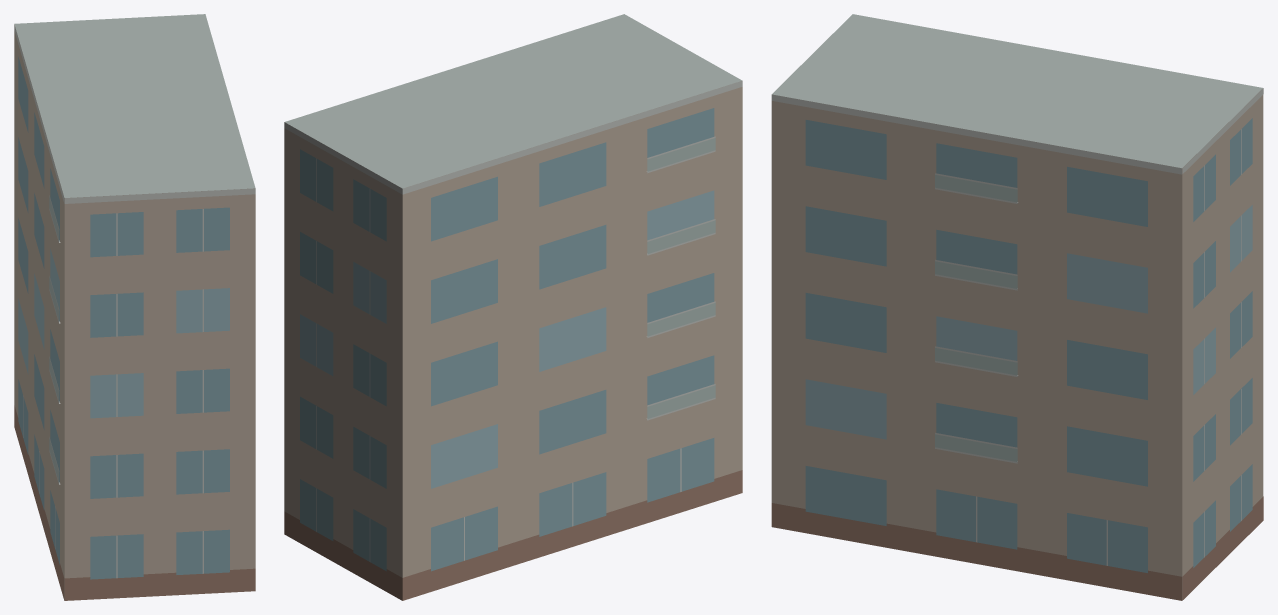
Rendered from survey-upis-32534147.glb.
3 renders of one model, left to right at view 1: azimuth 30°, elevation 25°; view 2: azimuth 150°, elevation 25°; view 3: azimuth 270°, elevation 25°, orthographic. The views are drawn at different scales.
Visible parts, largest first — view 1: survey-upis-32534147.tmp; view 2: survey-upis-32534147.tmp; view 3: survey-upis-32534147.tmp.
Boxes of the visible parts, x1,y1,x2,y2 form: survey-upis-32534147.tmp: (14, 14, 255, 600); survey-upis-32534147.tmp: (284, 14, 742, 600); survey-upis-32534147.tmp: (771, 14, 1263, 600).
Bounding box in the file's own units: 12.67 × 16.56 × 17.07.
